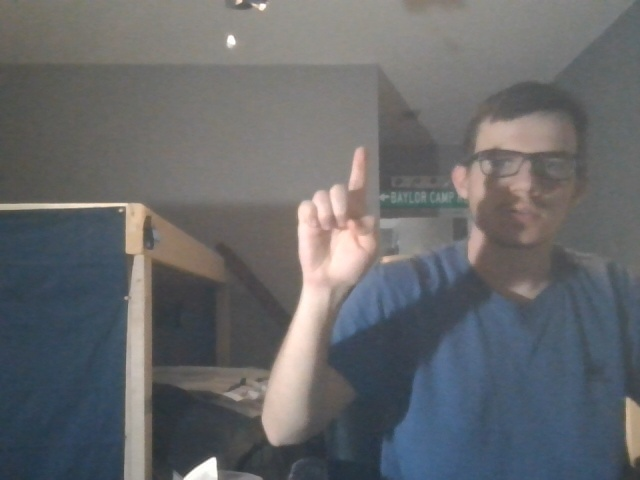D: (281, 140, 393, 303)
